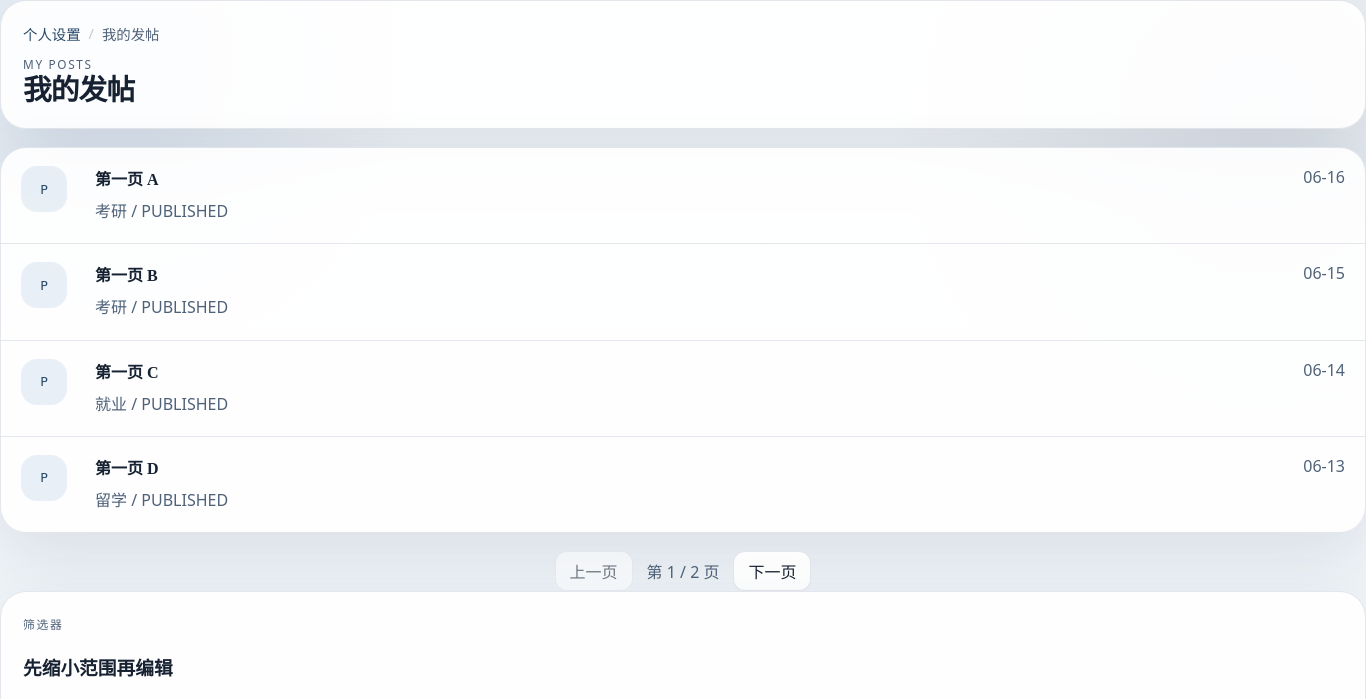
SettingsPostsPage › paginates the filtered list and resets to the first page after filtering
The width and height of the screenshot is (1366, 699).
Expected: the link "P 第一页 A 考研 / PUBLISHED 06-16" is shown, [21, 166, 1345, 222]
Expected: the text "第 1 / 2 页" is shown, [646, 559, 719, 583]
Click the button "下一页" at (772,571), box [734, 551, 812, 591]
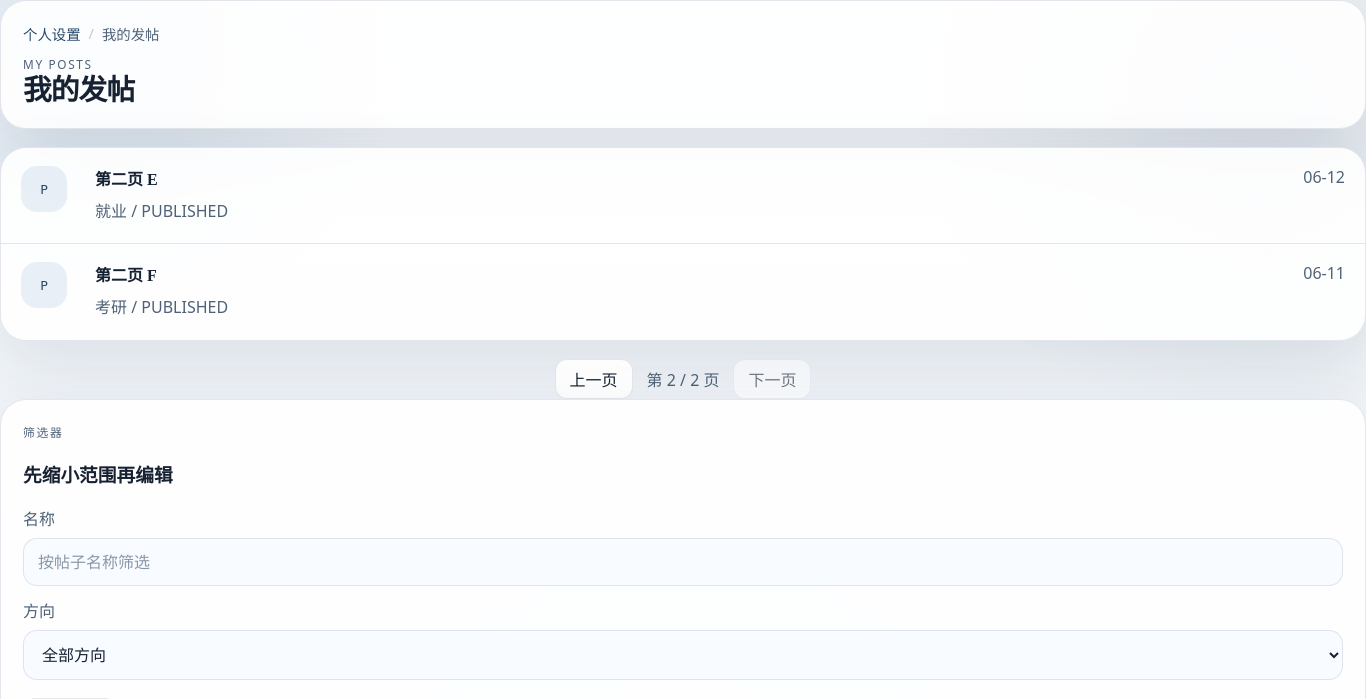
Now the text "第 2 / 2 页" is shown, box [646, 367, 719, 391]
Now the link "P 第二页 E 就业 / PUBLISHED 06-12" is shown, box [21, 166, 1345, 222]
Now the link "第一页 A" is gone
Type "第二页 F" into the field labelled "名称" at (683,562), box [23, 538, 1343, 586]
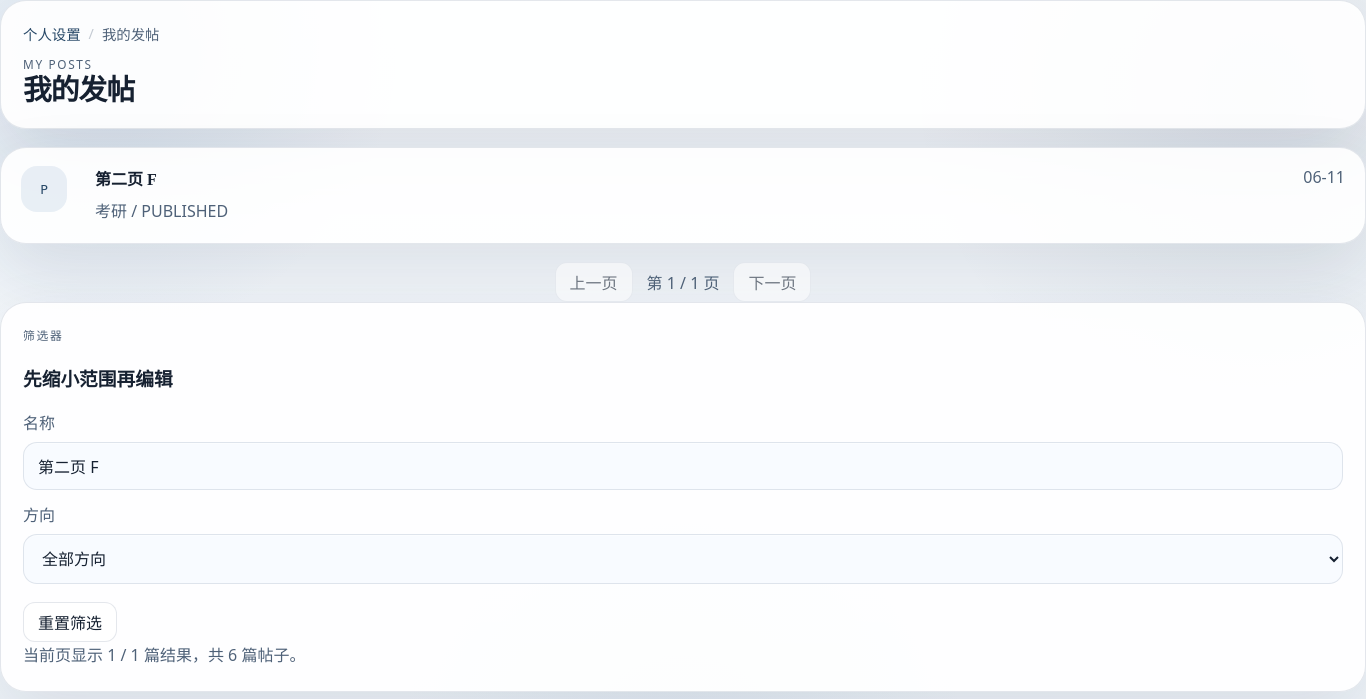
Now the link "P 第二页 F 考研 / PUBLISHED 06-11" is shown, box [21, 166, 1345, 222]
Now the text "第 1 / 1 页" is shown, box [646, 270, 719, 294]
Now the link "第二页 E" is gone
